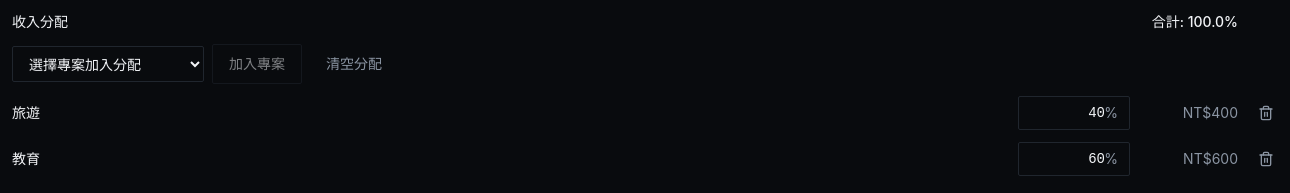
AllocationSection › clears every allocation row
Click the button with test id "allocation-clear-button". click: (354, 64)
box: [310,44,398,84]
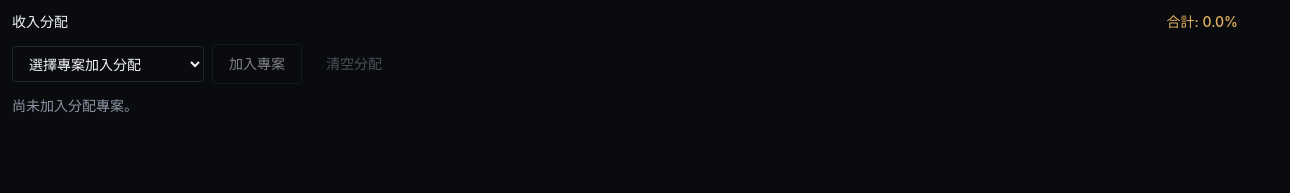
Check: the element with test id "allocation-row-project-1" is gone
